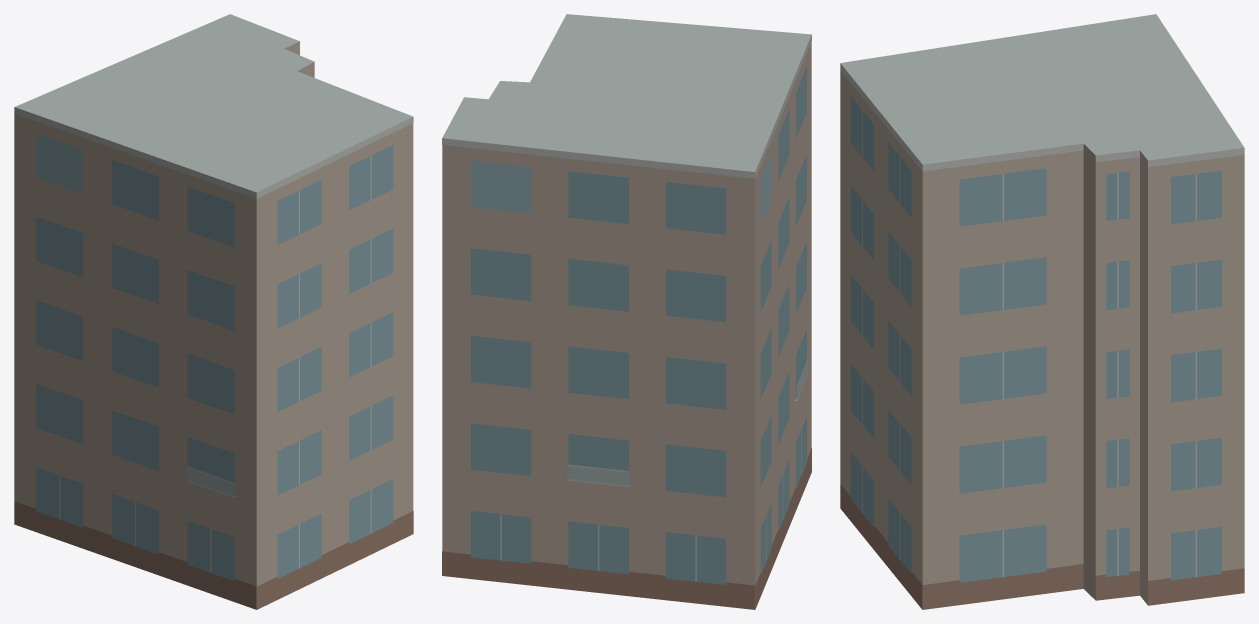
Rendered from survey-upis-33016989.glb.
3 renders of one model, left to right at view 1: azimuth 30°, elevation 25°; view 2: azimuth 150°, elevation 25°; view 3: azimuth 270°, elevation 25°, orthographic. The views are drawn at different scales.
Parts seen in each view (by area): view 1: survey-upis-33016989.tmp; view 2: survey-upis-33016989.tmp; view 3: survey-upis-33016989.tmp.
Boxes of the visible parts, x1,y1,x2,y2 form: survey-upis-33016989.tmp: [14, 14, 413, 609]; survey-upis-33016989.tmp: [442, 14, 811, 609]; survey-upis-33016989.tmp: [840, 14, 1244, 609].
Size of the model in its own units: 11.59 by 15.95 by 13.14.
